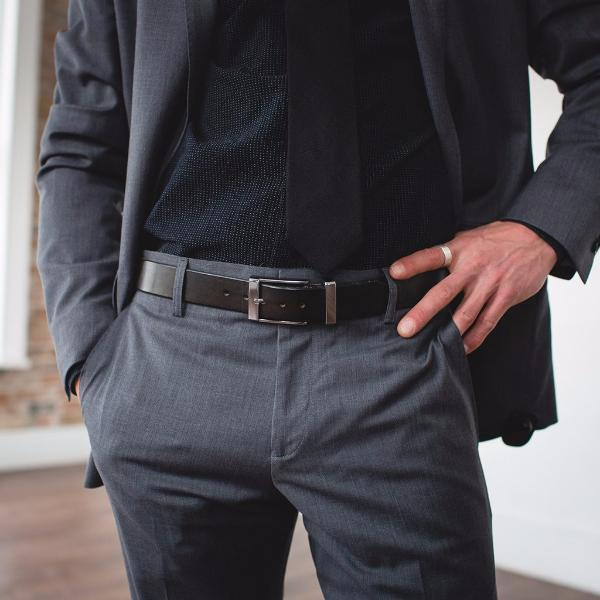F_M_suit jacket: (48, 1, 588, 400)
F_belt: (135, 257, 429, 323)
F_dress pants: (80, 315, 506, 588)
